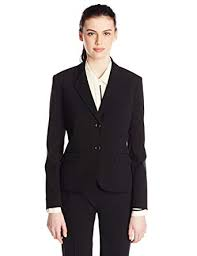F_W_suit jacket: (44, 57, 151, 215)
